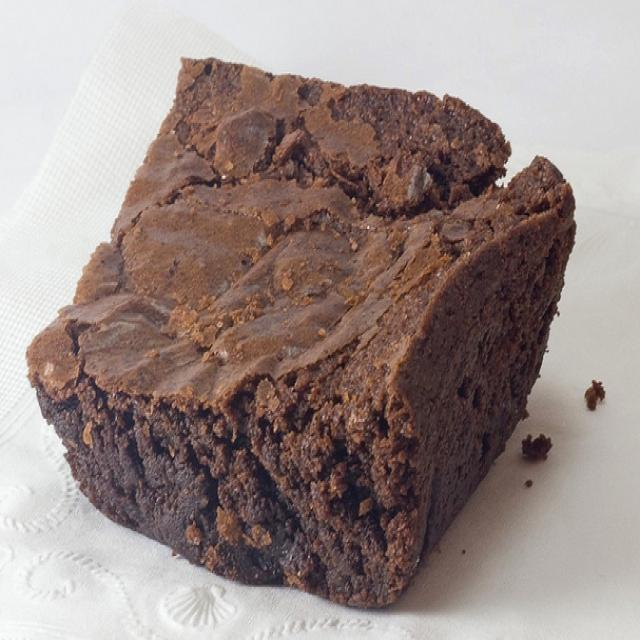蛋糕甜品: (12, 23, 616, 623)
